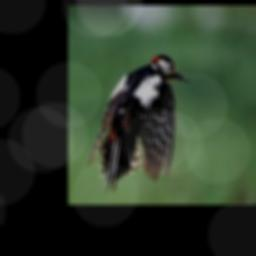Woodpecker: (89, 54, 189, 194)
